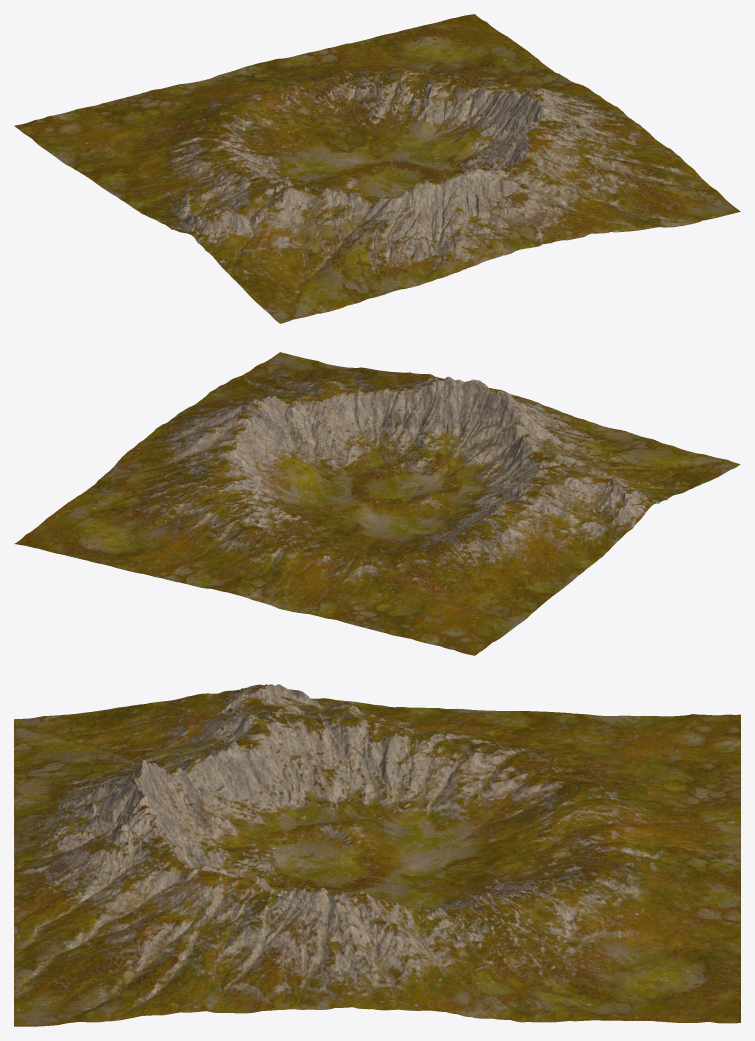
The model's file is lush_crater.glb.
The picture shows the model from 3 angles, top to bottom: view 1: azimuth 30°, elevation 25°; view 2: azimuth 150°, elevation 25°; view 3: azimuth 270°, elevation 25°; orthographic projection. The views are drawn at different scales.
Parts seen in each view (by area): view 1: Object_5, Object_4, Object_2, Object_6, Object_3; view 2: Object_5, Object_3, Object_4, Object_2, Object_6; view 3: Object_5, Object_4, Object_3, Object_2, Object_6.
Part boxes in pixels (x1,y1,x2,y2): Object_5: [14, 18, 695, 288]; Object_4: [176, 14, 740, 271]; Object_2: [143, 136, 480, 323]; Object_6: [26, 127, 717, 320]; Object_3: [257, 37, 610, 308]; Object_5: [28, 363, 672, 655]; Object_3: [51, 379, 686, 547]; Object_4: [14, 352, 567, 588]; Object_2: [340, 389, 740, 558]; Object_6: [286, 360, 732, 650]; Object_5: [14, 700, 740, 1015]; Object_4: [14, 750, 740, 1026]; Object_3: [14, 719, 694, 1022]; Object_2: [14, 684, 491, 891]; Object_6: [14, 684, 727, 1016].
Size of the model in its own units: 0.999 by 0.1318 by 0.999.
1 material, 1 textured.
